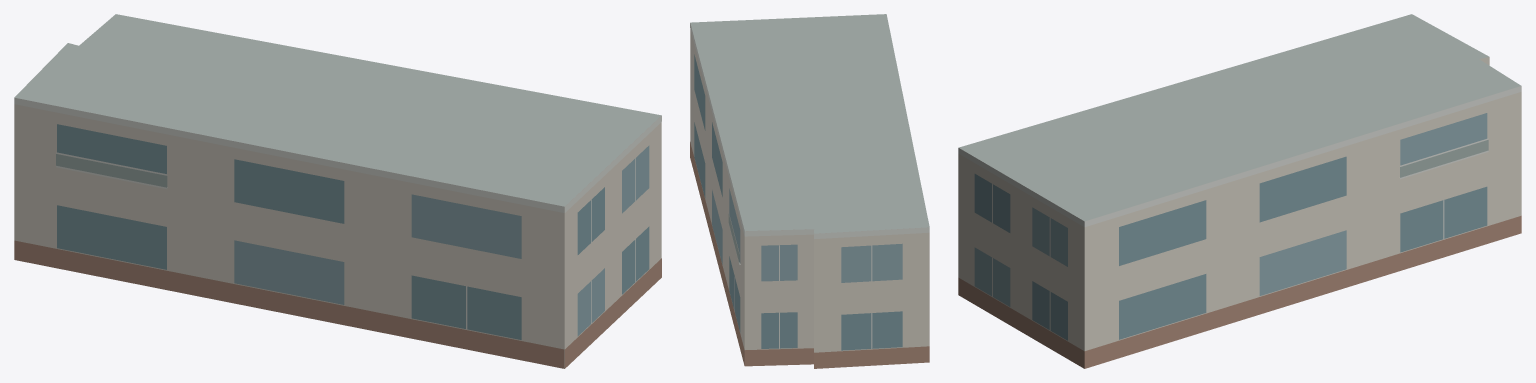
Rendered from survey-upis-32689350.glb.
3 renders of one model, left to right at view 1: azimuth 30°, elevation 25°; view 2: azimuth 150°, elevation 25°; view 3: azimuth 270°, elevation 25°, orthographic. The views are drawn at different scales.
Visible parts, largest first — view 1: survey-upis-32689350.tmp; view 2: survey-upis-32689350.tmp; view 3: survey-upis-32689350.tmp.
Part boxes in pixels (bbox=[...]): survey-upis-32689350.tmp: bbox=[14, 14, 661, 368]; survey-upis-32689350.tmp: bbox=[690, 14, 929, 368]; survey-upis-32689350.tmp: bbox=[958, 14, 1521, 368].
Bounding box in the file's own units: 18.41 × 6.1 × 21.12.
